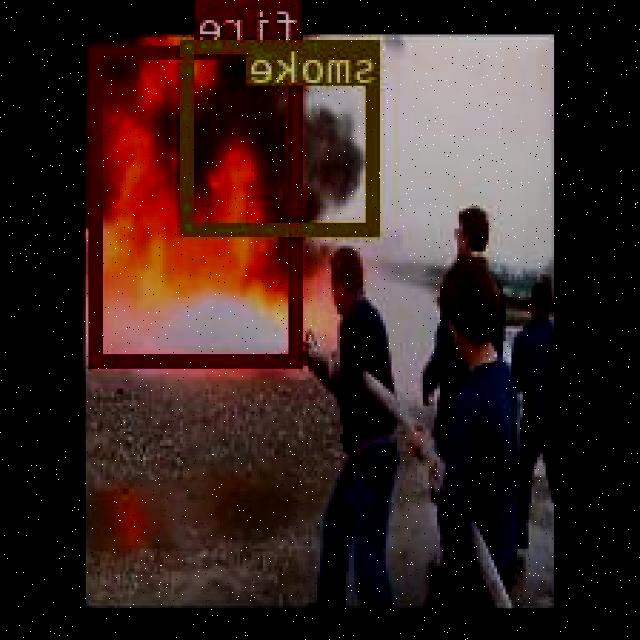fire: (92, 43, 304, 364)
smoke: (184, 38, 381, 234)
